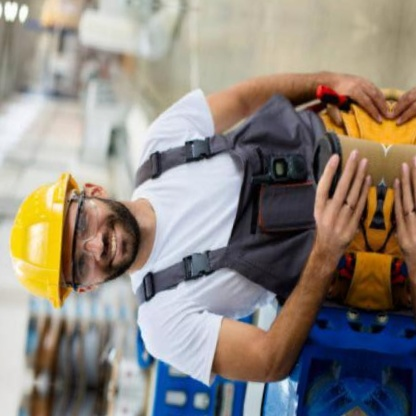yellow: (0, 156, 86, 317)
